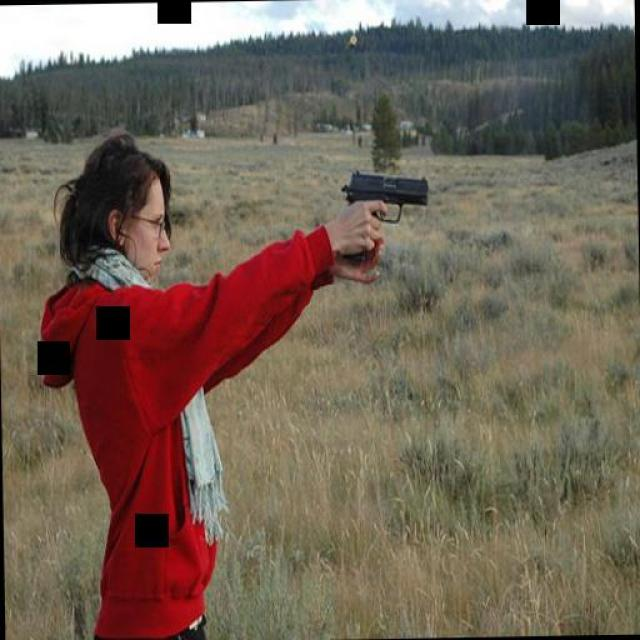gun: (339, 166, 429, 260)
